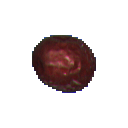gd: (21, 25, 108, 108)
